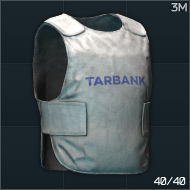BNTI Module-3M body armor: (0, 0, 190, 190)
